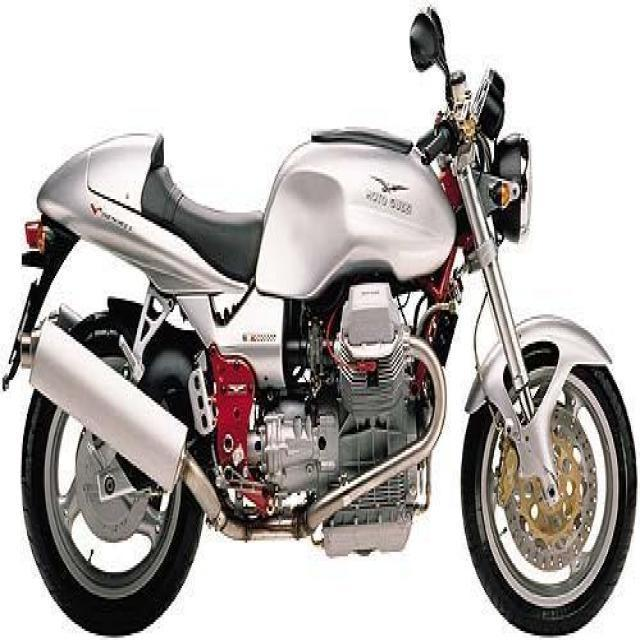Motorcycle: (16, 35, 634, 638)
